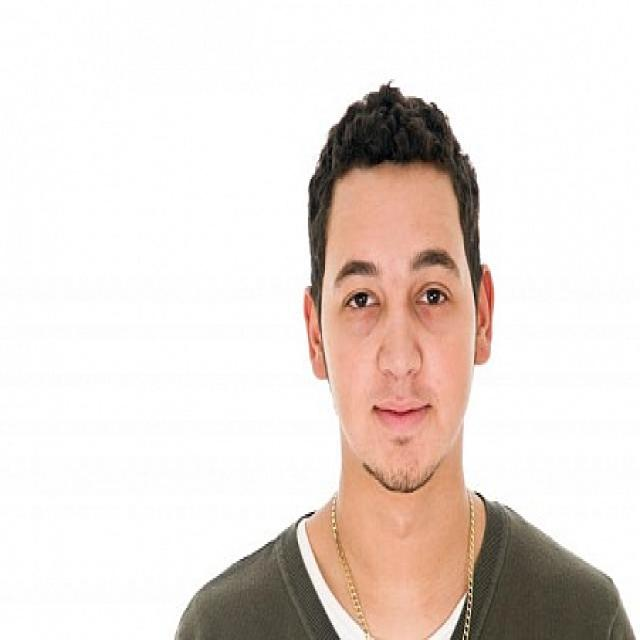Eyes: (332, 252, 461, 320)
